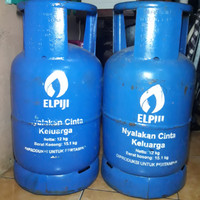blue_gas: (102, 1, 196, 199), (11, 1, 104, 196)
